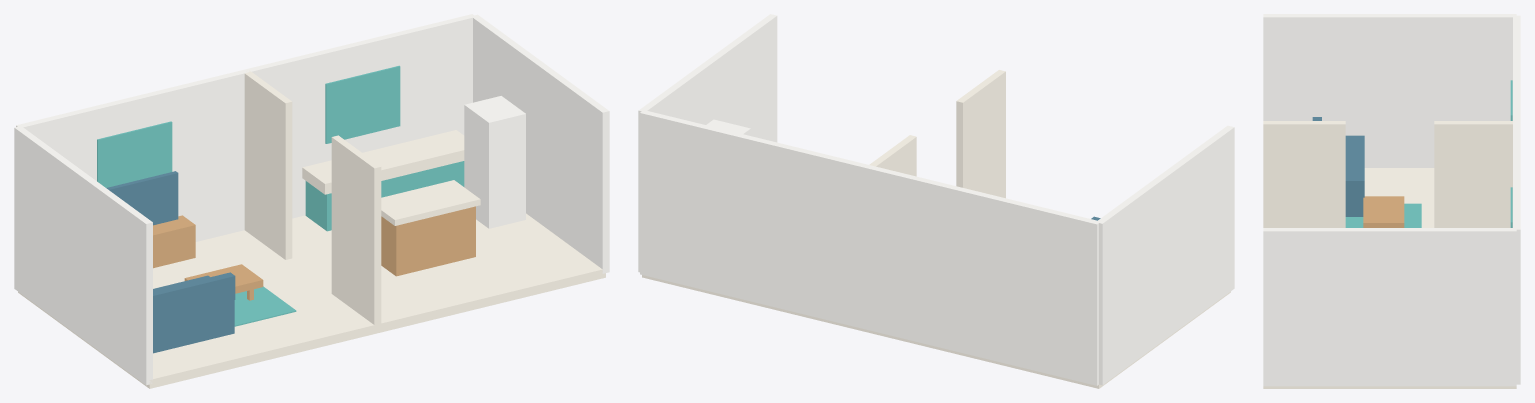
File: maison.glb
3 renders of one model, left to right at view 1: azimuth 30°, elevation 25°; view 2: azimuth 150°, elevation 25°; view 3: azimuth 270°, elevation 25°, orthographic. The views are drawn at different scales.
Visible parts, largest first — view 1: Mur arrière, Mur gauche, Mur droit, Sol cuisine, Sol salon, Séparation droite, Séparation gauche, Réfrigérateur, Îlot cuisine, Fenêtre cuisine, Fenêtre salon, Plan de travail (+8 smaller); view 2: Mur arrière, Mur gauche, Mur droit, Séparation droite, Séparation gauche, Sol salon, Sol cuisine; view 3: Mur droit, Mur gauche, Séparation droite, Séparation gauche, Sol salon, Mur arrière, Sofa, Table salon, Sol cuisine, Tapis.
Part boxes in pixels (x1,y1,x2,y2): Mur arrière: [16, 14, 475, 241]; Mur gauche: [14, 127, 152, 385]; Mur droit: [473, 14, 609, 273]; Sol cuisine: [289, 213, 605, 332]; Sol salon: [18, 230, 377, 388]; Séparation droite: [331, 135, 381, 328]; Séparation gauche: [244, 70, 292, 259]; Réfrigérateur: [464, 96, 525, 228]; Îlot cuisine: [381, 206, 475, 276]; Fenêtre cuisine: [325, 65, 400, 143]; Fenêtre salon: [97, 121, 172, 187]; Plan de travail: [302, 130, 464, 194]; Mur arrière: [640, 110, 1100, 385]; Mur gauche: [1098, 125, 1234, 385]; Mur droit: [638, 14, 777, 272]; Séparation droite: [956, 70, 1005, 198]; Séparation gauche: [869, 135, 916, 176]; Sol salon: [870, 291, 1230, 388]; Sol cuisine: [642, 275, 870, 332]; Mur droit: [1263, 228, 1516, 386]; Mur gauche: [1263, 14, 1516, 167]; Séparation droite: [1263, 121, 1345, 227]; Séparation gauche: [1434, 121, 1514, 227]; Sol salon: [1364, 168, 1434, 227]; Mur arrière: [1513, 15, 1520, 384]; Sofa: [1345, 135, 1364, 216]; Table salon: [1363, 196, 1404, 227]; Sol cuisine: [1263, 386, 1516, 388]; Tapis: [1345, 203, 1421, 227].
Size of the model in its own units: 8.12 by 2.78 by 4.06.
